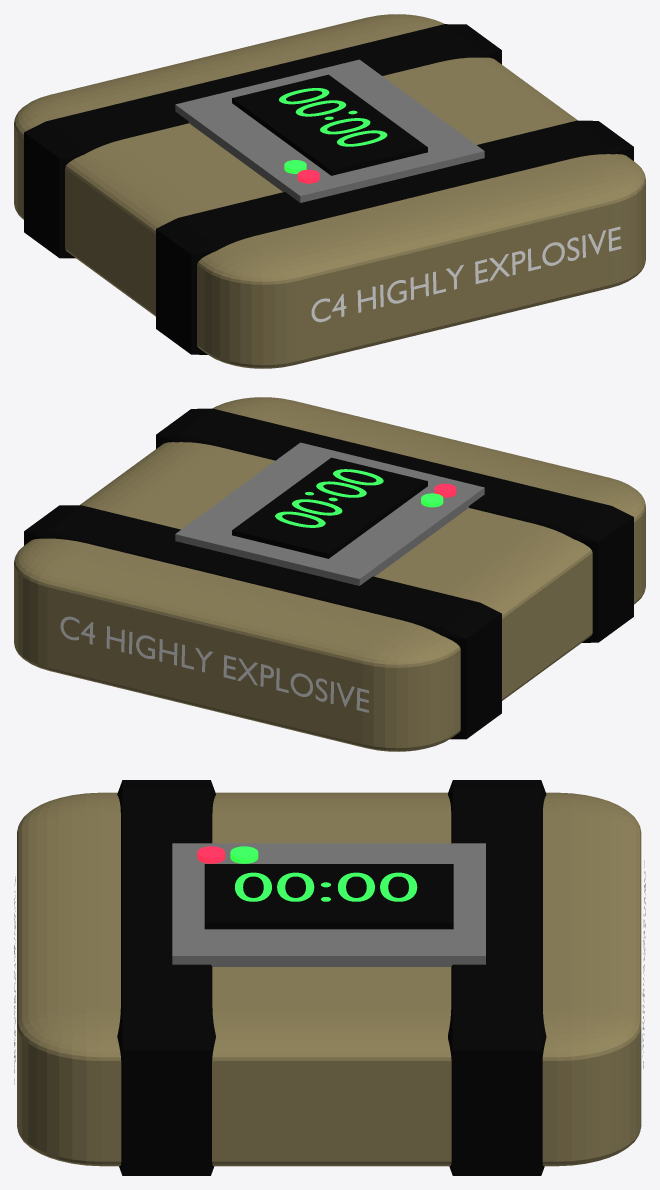
3 renders of one model, top to bottom at view 1: azimuth 30°, elevation 25°; view 2: azimuth 150°, elevation 25°; view 3: azimuth 270°, elevation 25°, orthographic. The views are drawn at different scales.
Parts seen in each view (by area): view 1: Cube, Cube.001, Cube.002, Cube.003, Cube.004, Text.001, Text; view 2: Cube, Cube.002, Cube.001, Cube.003, Cube.004, Text.002, Text; view 3: Cube, Cube.002, Cube.001, Cube.003, Cube.004, Text.
Boxes of the visible parts, box(x1,y1,x2,y2) form: Cube: box(14, 14, 645, 368); Cube.001: box(156, 120, 633, 354); Cube.002: box(24, 24, 501, 258); Cube.003: box(175, 59, 484, 202); Cube.004: box(232, 74, 427, 175); Text.001: box(311, 226, 621, 322); Text: box(279, 88, 387, 146); Cube: box(14, 397, 645, 751); Cube.002: box(24, 505, 501, 739); Cube.001: box(156, 408, 633, 642); Cube.003: box(175, 442, 484, 585); Cube.004: box(232, 457, 427, 558); Text.002: box(60, 616, 368, 712); Text: box(275, 469, 383, 527); Cube: box(17, 792, 641, 1166); Cube.002: box(448, 780, 546, 1175); Cube.001: box(117, 780, 215, 1175); Cube.003: box(172, 843, 485, 966); Cube.004: box(204, 864, 453, 929); Text: box(235, 872, 417, 901).
Bounding box in the file's own units: 205 × 57.36 × 202.
